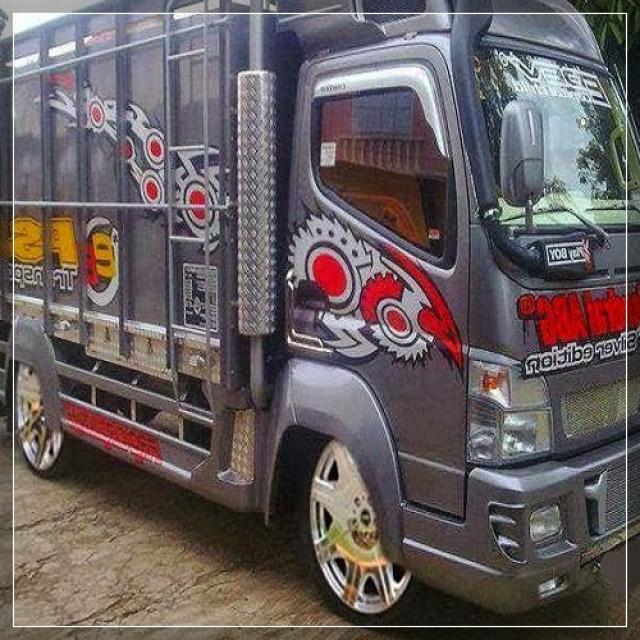truck: (0, 0, 639, 618)
